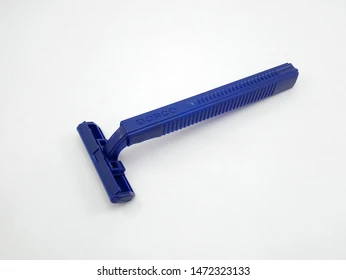non-toxic_waste: (63, 135, 299, 218)
